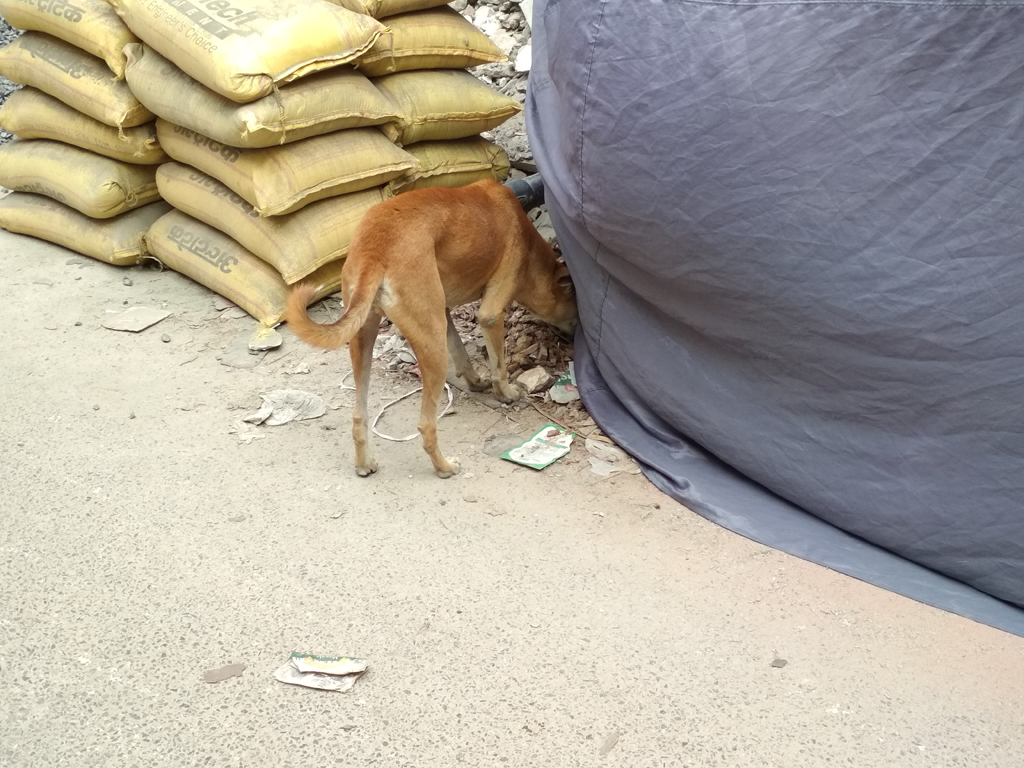dog: (284, 178, 583, 477)
